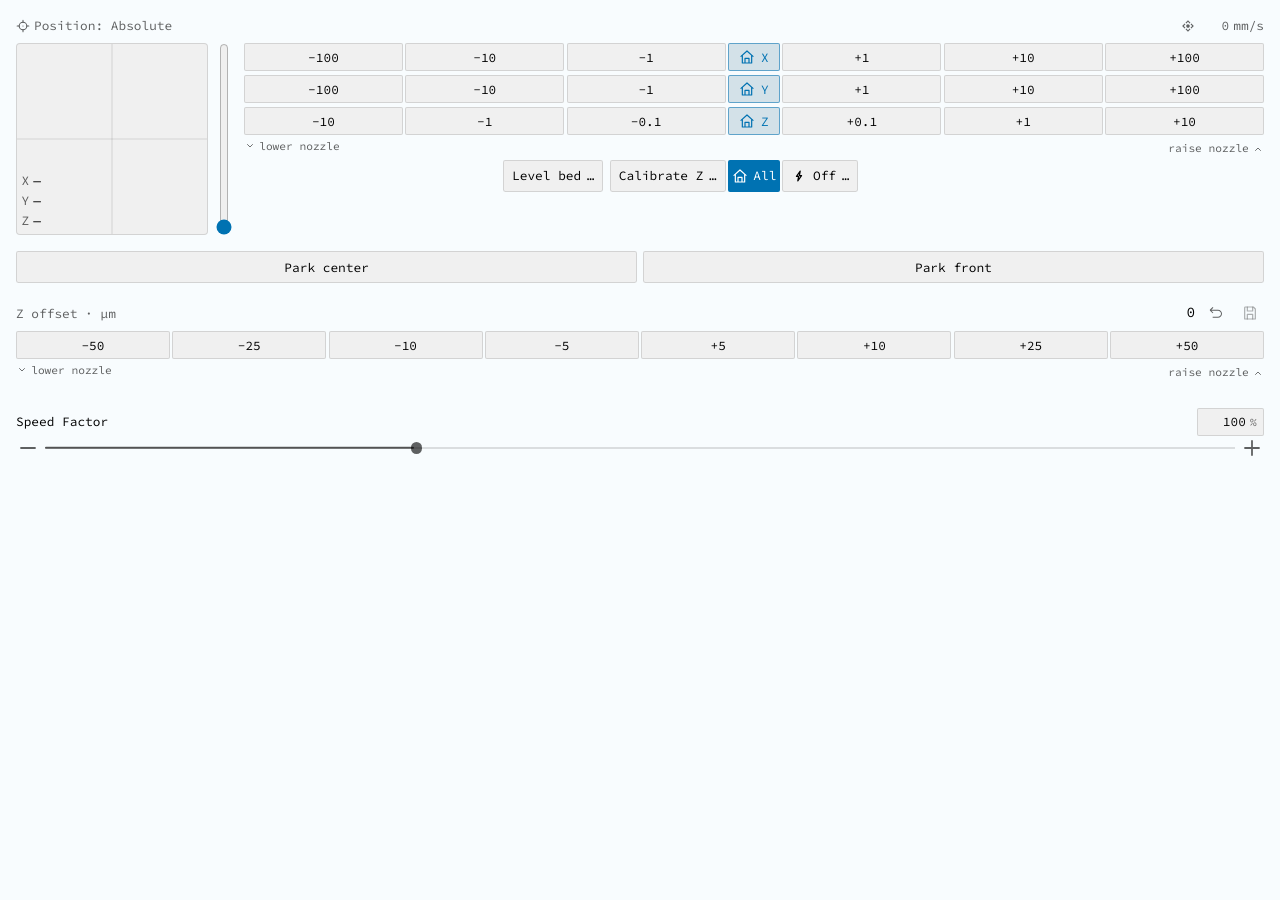
Test: MovementModule › renders screw results as turn instructions rather than raw console text
Click the button with class "jog-leveling-shortcut" at point(553, 176), box [503,160,604,192]
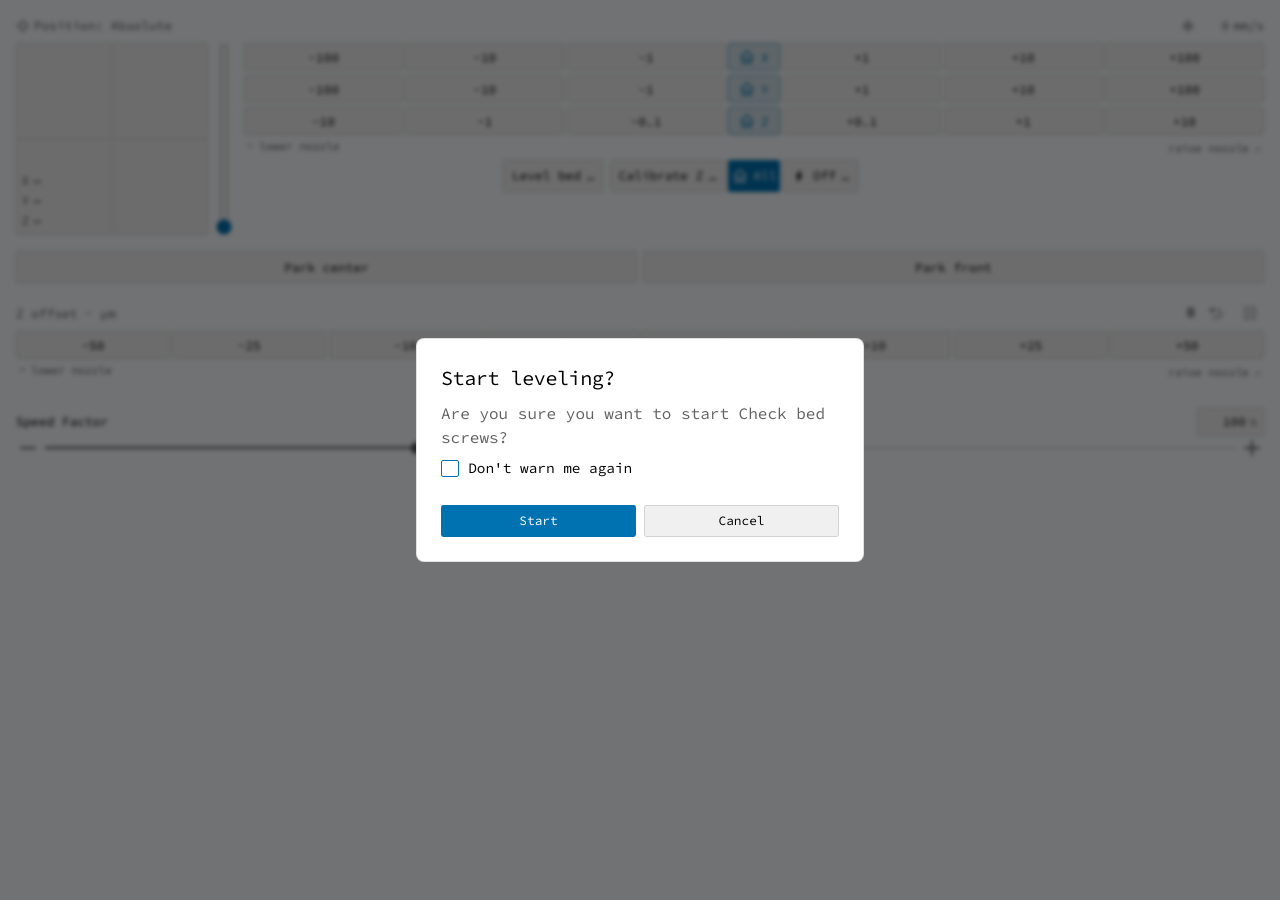
Click the button "Start" at point(538, 521), box [441,505,636,537]
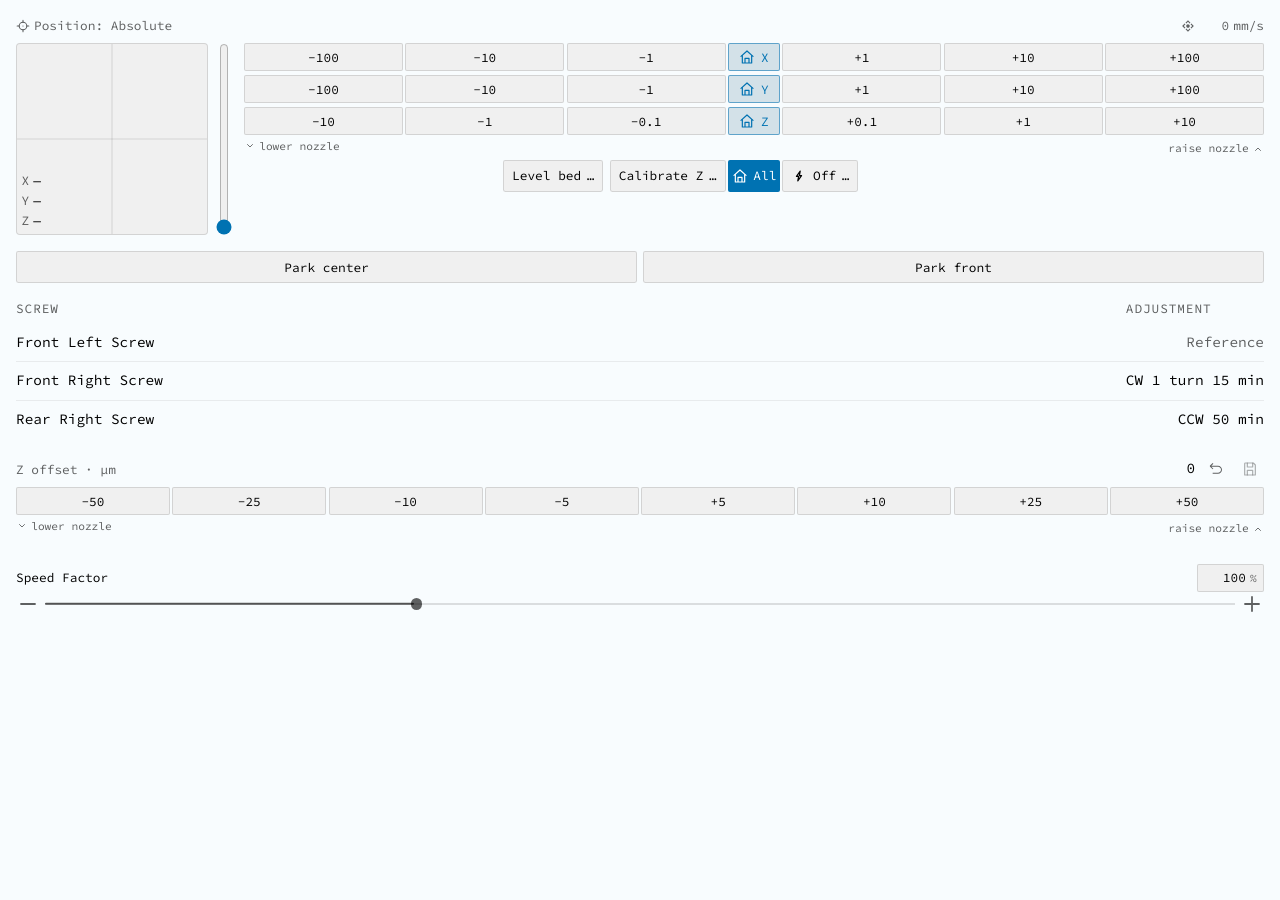
Result: the number of elements with class "module-table__row" is 3 at [16,324,1264,362]; [16,362,1264,401]; [16,410,1264,428]
Result: the element with class "module-table__row" shows "Reference" at [1186,333,1264,351]
Result: the element with class "module-table__row" shows "CW 1 turn 15 min" at [1126,371,1264,389]
